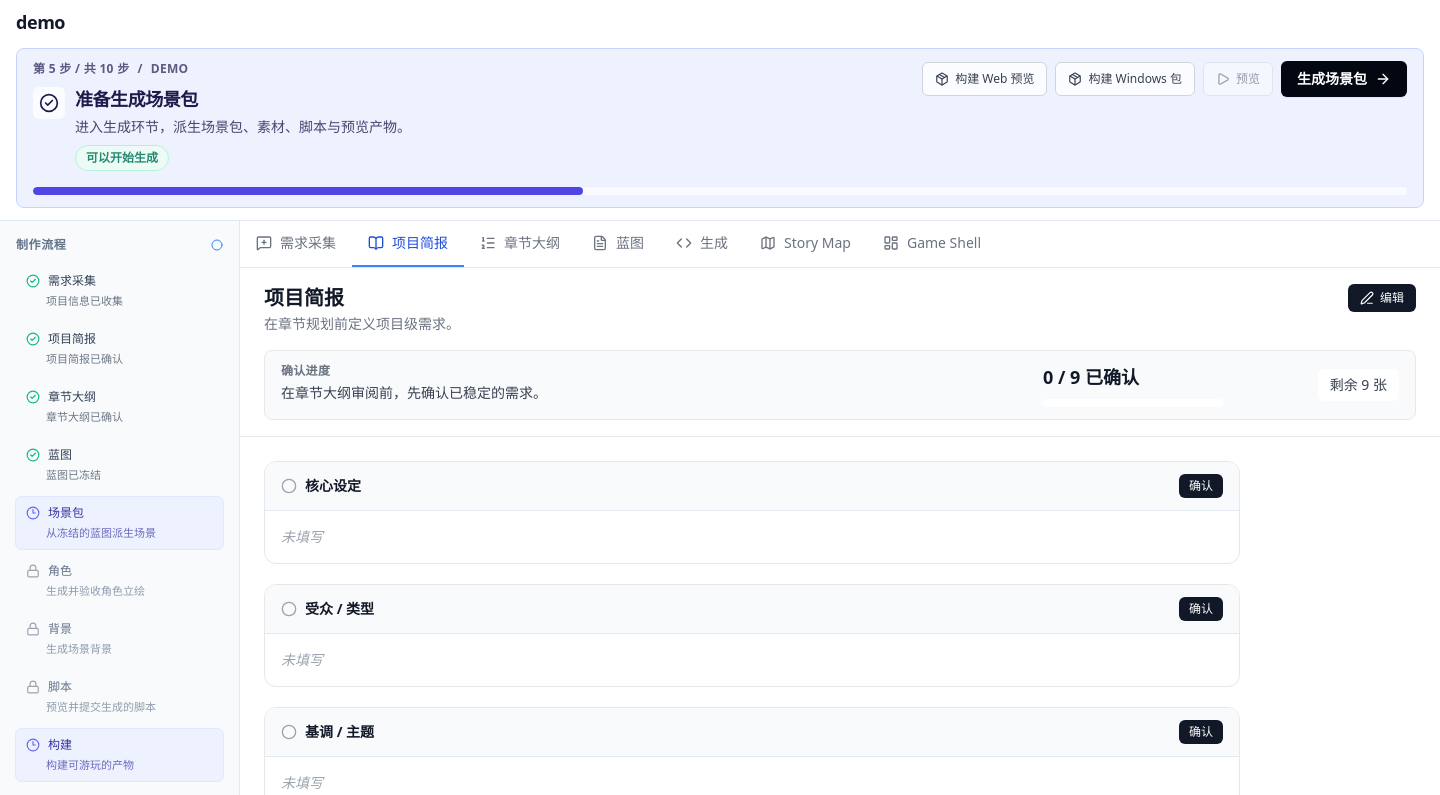
Scenario: ProjectWorkspacePage generation gating › enables the generation tab start actions when generation is allowed
The width and height of the screenshot is (1440, 795).
Click the button "生成" at point(702, 244), box [660,221,744,267]
(page scrolled)
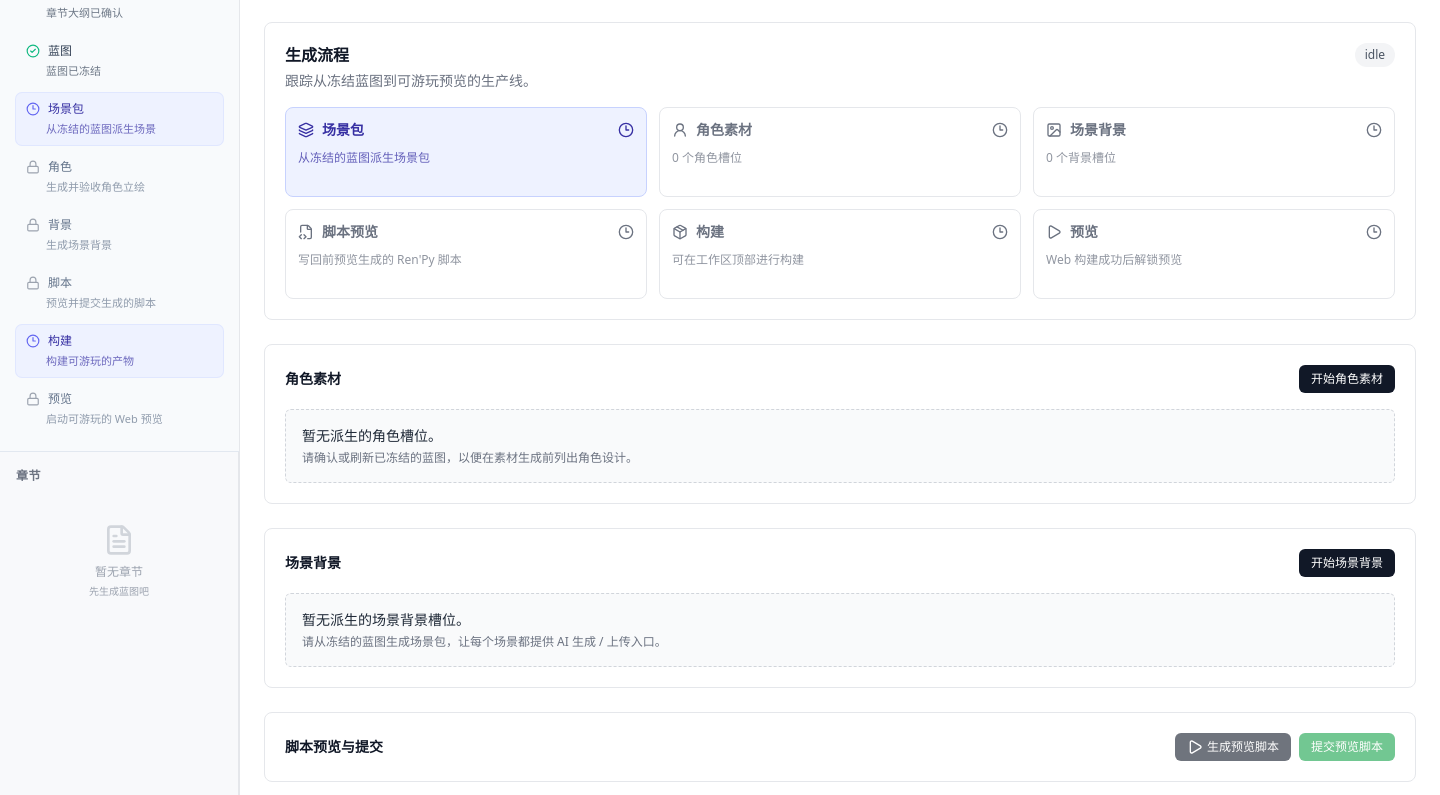
Now the button "开始角色素材" is enabled, box [1299,365,1395,393]
Now the button "开始场景背景" is enabled, box [1299,549,1395,577]
